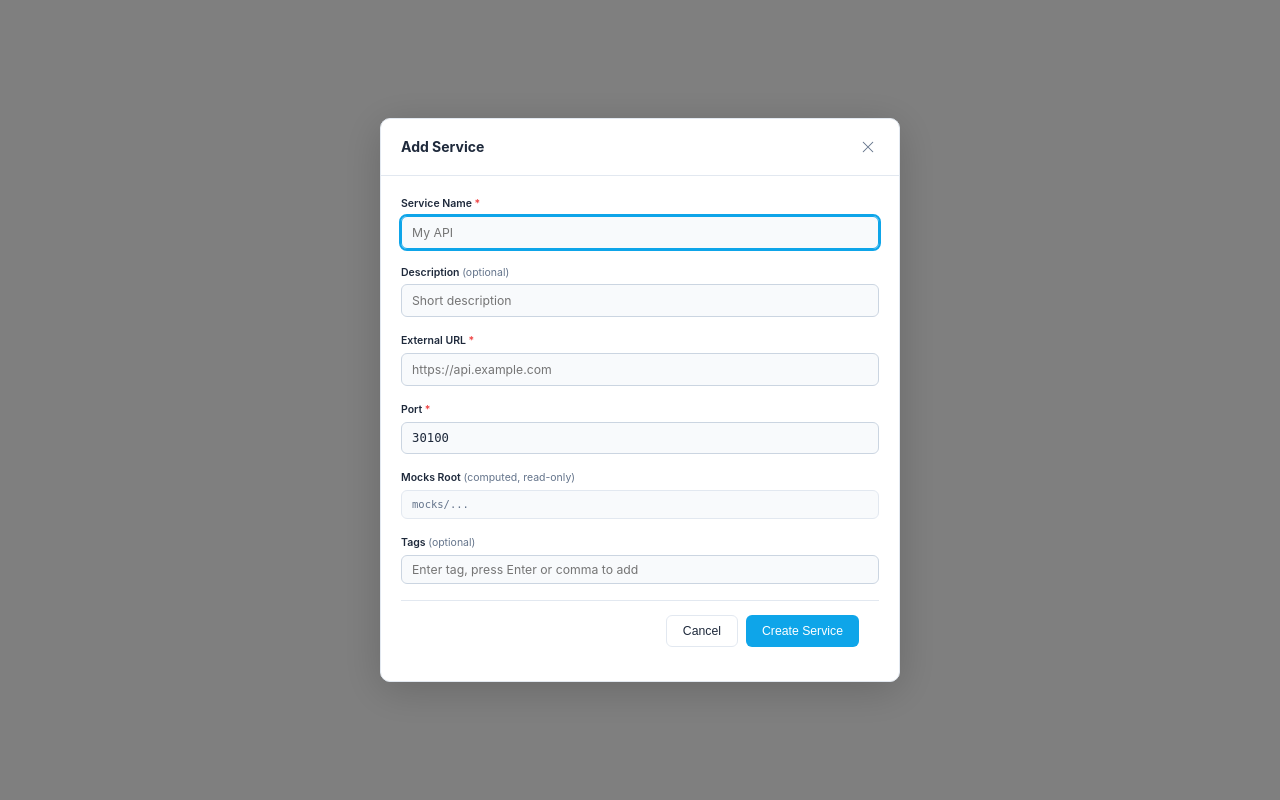
Test: AddEditServiceModal — AC-5, AC-8: form validation and slug-change warning › validates port range on blur (AC-5)
Step 1. Clear the number field with test id "input-service-port" → coordinates (640, 438), box [401,422,879,454]
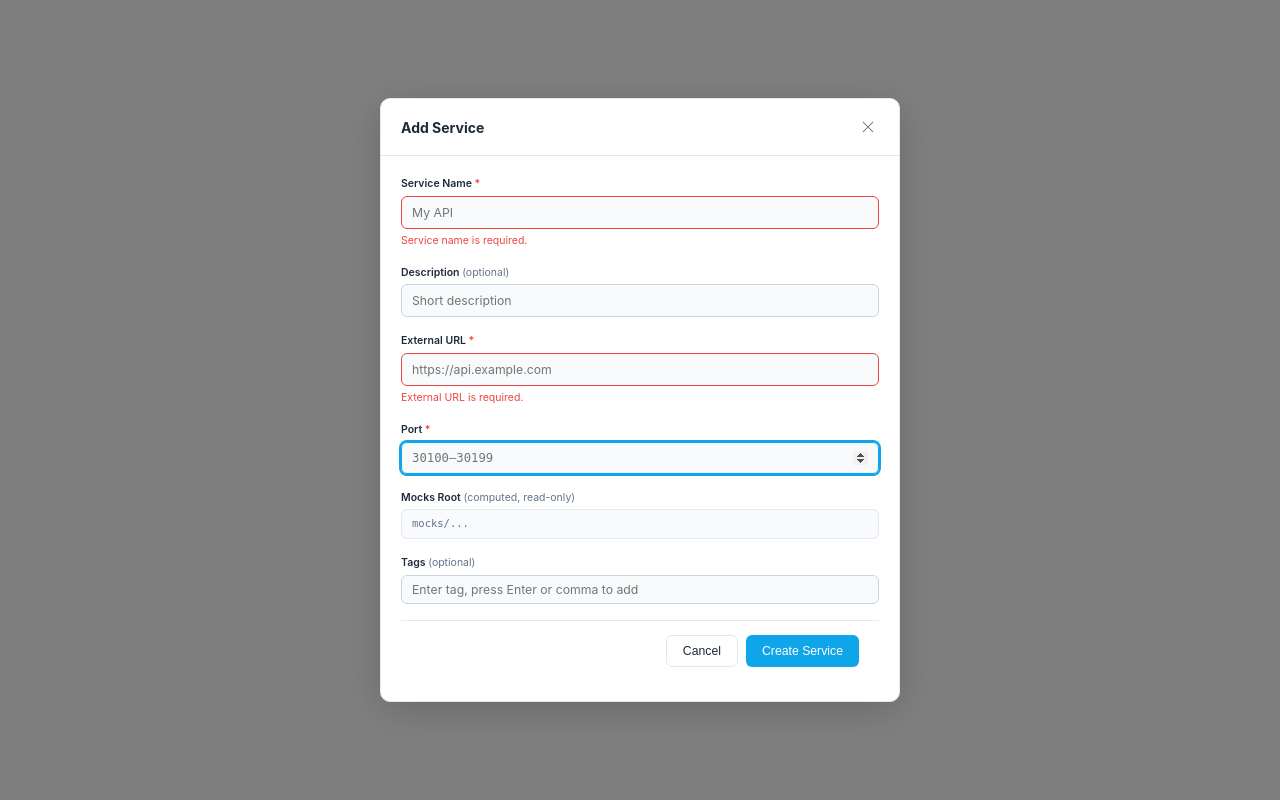
Step 2. Type "9999" into the number field with test id "input-service-port" → coordinates (640, 458), box [401,442,879,474]
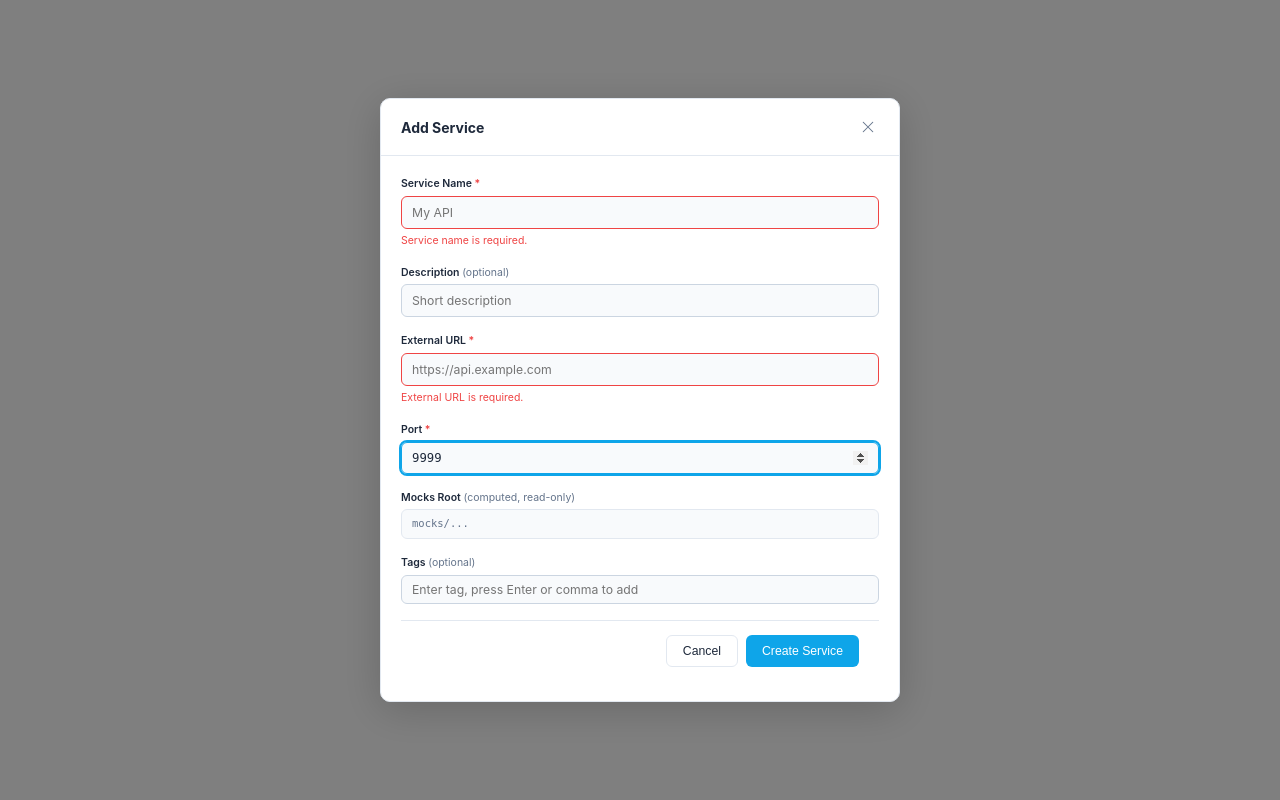
Step 3. Leave the number field with test id "input-service-port", box [401,442,879,474]
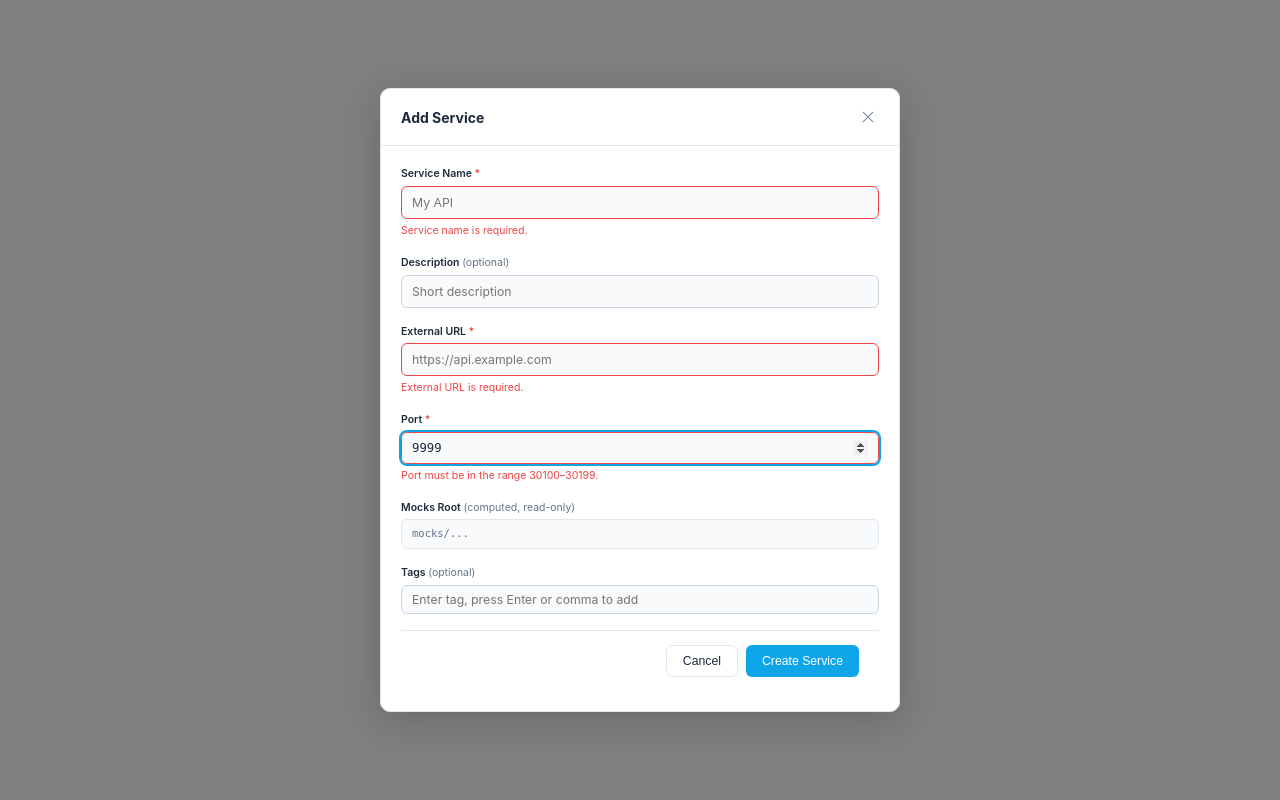
Expected: the text "Port must be in the range 30100–30199." is shown, [401,469,598,482]
